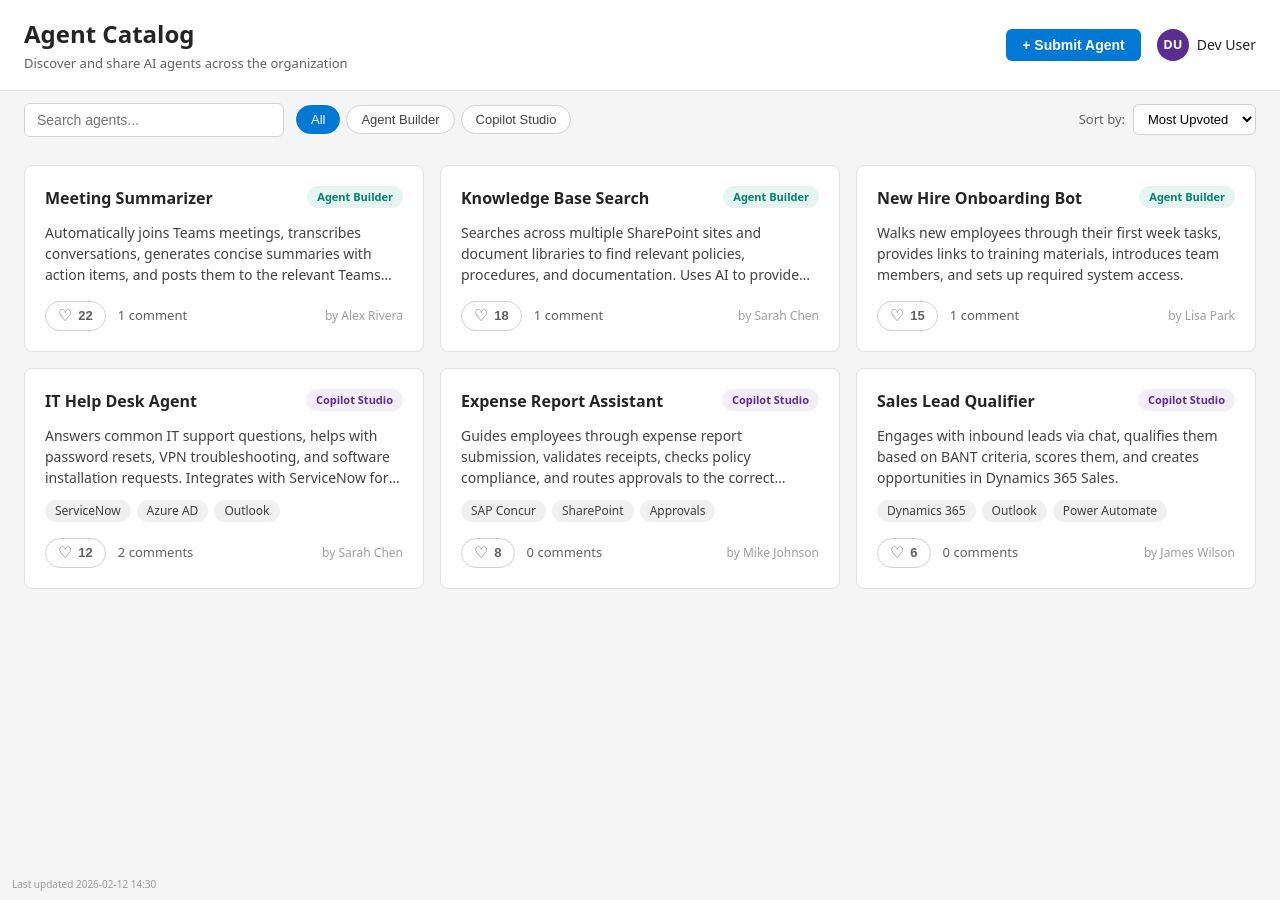
Test case: App › filters agents by builder type
# Click "Agent Builder" chip to filter — find the filter chip, not the badge
What coordinates should you click on to do the following:
click the button "Agent Builder"
I would click on:
 (401, 120)
Its box is [346, 105, 455, 134].
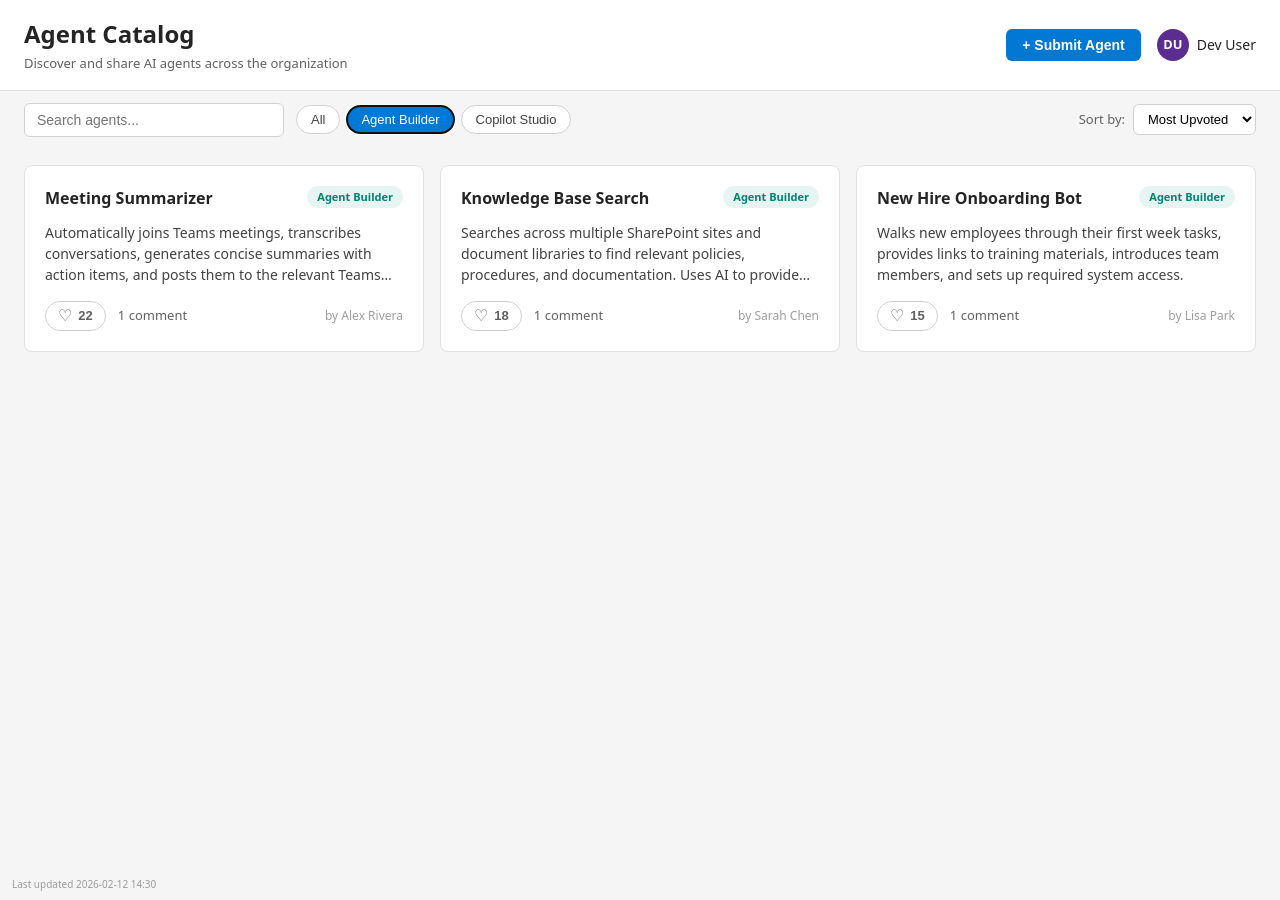
Expected: the heading "New Hire Onboarding Bot" is shown, [877, 186, 1082, 210]
Now the button "IT Help Desk Agent" is gone
